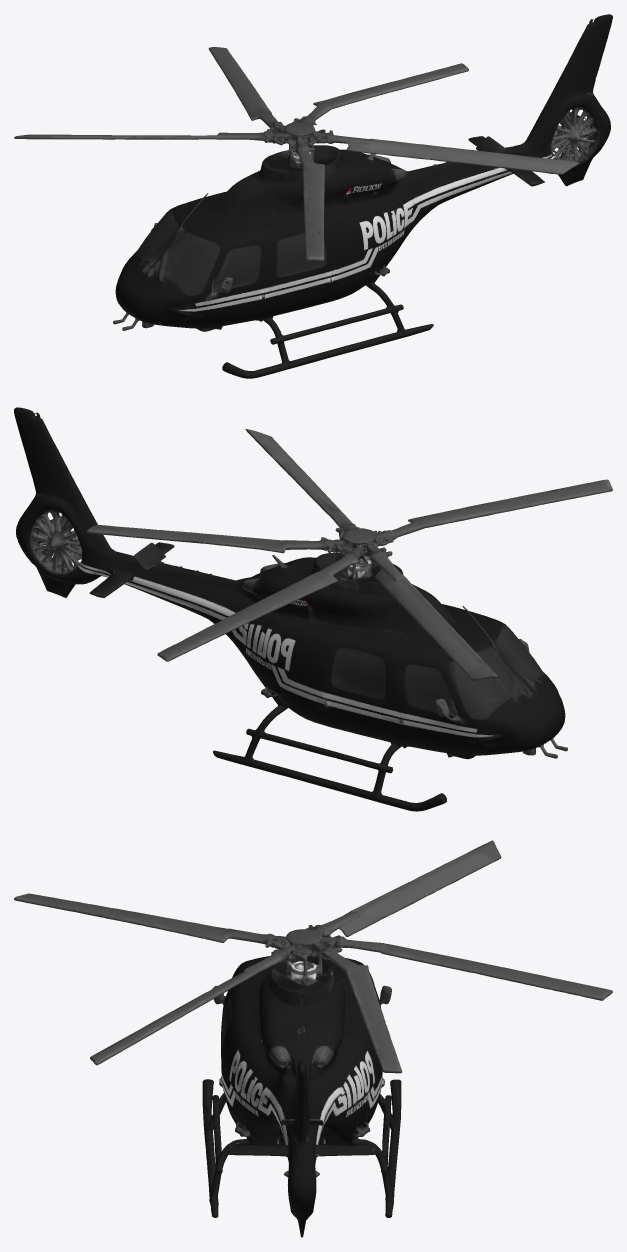
File: helicopter_body.glb
The picture shows the model from 3 angles, top to bottom: view 1: azimuth 30°, elevation 25°; view 2: azimuth 150°, elevation 25°; view 3: azimuth 270°, elevation 25°; orthographic projection. The views are drawn at different scales.
Bounding box in the file's own units: 1.91 × 0.8388 × 1.64.
1 material, 1 textured.
